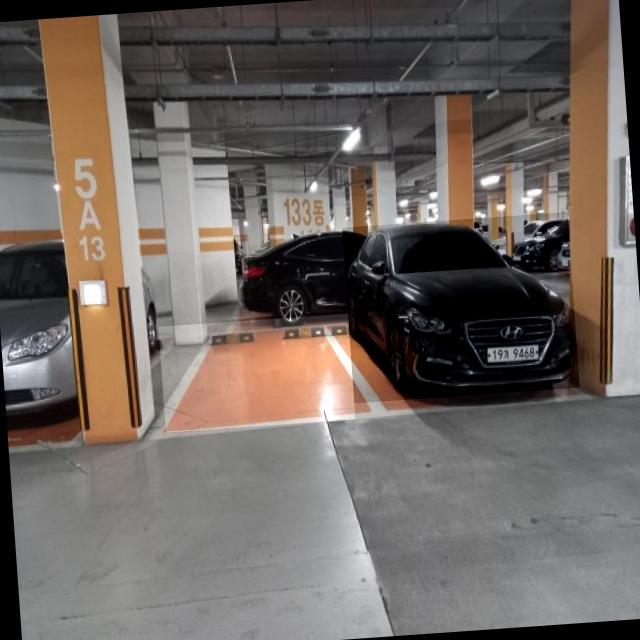empty: (158, 313, 355, 432)
occupied: (342, 212, 580, 403)
